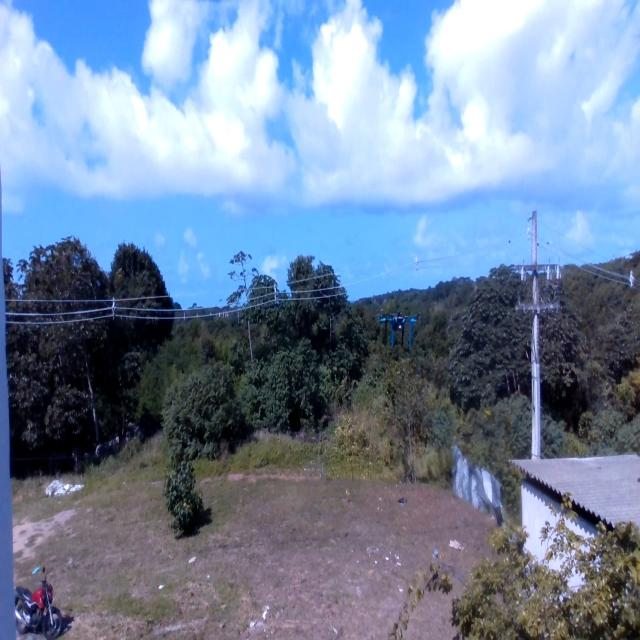-uav-: (374, 302, 422, 351)
